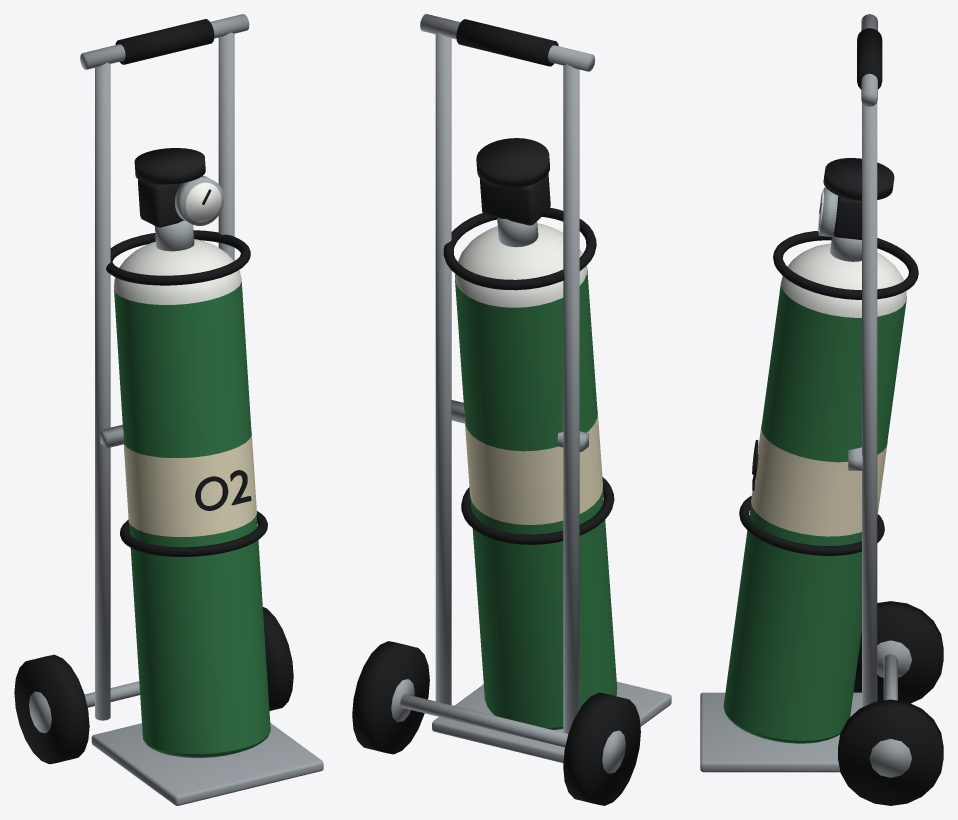
The model's file is o2_trolley.glb.
3 renders of one model, left to right at view 1: azimuth 30°, elevation 25°; view 2: azimuth 150°, elevation 25°; view 3: azimuth 270°, elevation 25°, orthographic. The views are drawn at different scales.
Visible parts, largest first — view 1: TrolleyO2_body, Trolley_up-0.1, TrolleyO2_label, Trolley_toe, Trolley_wheel-0.17, TrolleyO2_shoulder, Trolley_up+0.1, Trolley_strap0.72, Trolley_grip, TrolleyO2_wheel, Trolley_wheel+0.17, Trolley_strap0.32 (+8 smaller); view 2: TrolleyO2_body, Trolley_up+0.1, Trolley_up-0.1, TrolleyO2_label, Trolley_wheel-0.17, TrolleyO2_shoulder, Trolley_wheel+0.17, Trolley_toe, TrolleyO2_wheel, Trolley_strap0.72, Trolley_grip, Trolley_axle (+7 smaller); view 3: TrolleyO2_body, Trolley_up+0.1, TrolleyO2_label, Trolley_wheel+0.17, Trolley_toe, TrolleyO2_shoulder, Trolley_wheel-0.17, Trolley_strap0.72, TrolleyO2_wheel, Trolley_strap0.32, Trolley_grip, Trolley_hub+0.17 (+6 smaller).
Boxes of the visible parts, box(x1,y1,x2,y2) form: TrolleyO2_body: box(113, 282, 270, 753); Trolley_up-0.1: box(95, 62, 110, 720); TrolleyO2_label: box(123, 431, 256, 536); Trolley_toe: box(91, 723, 323, 805); Trolley_wheel-0.17: box(14, 654, 89, 764); TrolleyO2_shoulder: box(114, 239, 241, 304); Trolley_up+0.1: box(218, 32, 234, 260); Trolley_strap0.72: box(106, 230, 250, 285); Trolley_grip: box(115, 19, 214, 64); TrolleyO2_wheel: box(134, 148, 205, 184); Trolley_wheel+0.17: box(263, 607, 293, 710); Trolley_strap0.32: box(120, 511, 267, 556); TrolleyO2_body: box(455, 267, 617, 727); Trolley_up+0.1: box(435, 33, 451, 704); Trolley_up-0.1: box(563, 64, 579, 733); TrolleyO2_label: box(465, 410, 602, 524); Trolley_wheel-0.17: box(563, 692, 640, 805); TrolleyO2_shoulder: box(455, 223, 587, 307); Trolley_wheel+0.17: box(352, 641, 429, 754); Trolley_toe: box(432, 681, 671, 763); TrolleyO2_wheel: box(476, 138, 549, 188); Trolley_strap0.72: box(443, 207, 596, 290); Trolley_grip: box(456, 19, 558, 66); Trolley_axle: box(400, 694, 568, 747); TrolleyO2_body: box(723, 278, 906, 740); Trolley_up+0.1: box(862, 103, 877, 707); TrolleyO2_label: box(751, 427, 887, 536); Trolley_wheel+0.17: box(838, 699, 943, 805); Trolley_toe: box(700, 692, 861, 772); TrolleyO2_shoulder: box(781, 243, 906, 317); Trolley_wheel-0.17: box(853, 601, 943, 703); Trolley_strap0.72: box(773, 231, 918, 299); TrolleyO2_wheel: box(823, 158, 894, 200); Trolley_strap0.32: box(739, 496, 884, 555); Trolley_grip: box(857, 28, 882, 89); Trolley_hub+0.17: box(869, 739, 911, 777).
Size of the model in its own units: 0.37 by 1.1 by 0.345.
